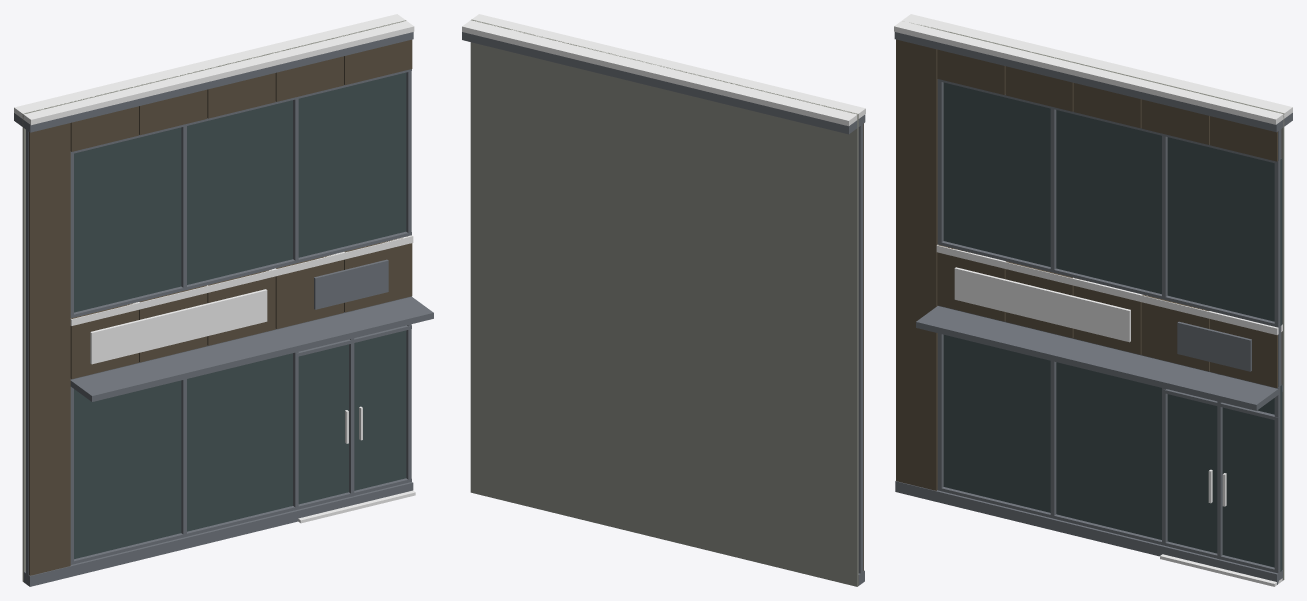
3 renders of one model, left to right at view 1: azimuth 30°, elevation 25°; view 2: azimuth 150°, elevation 25°; view 3: azimuth 330°, elevation 25°, orthographic.
Visible parts, largest first — view 1: a2010_base-w1; view 2: a2010_base-w1; view 3: a2010_base-w1.
Part boxes in pixels (<box>): a2010_base-w1: <box>14,14,433,586</box>; a2010_base-w1: <box>462,14,865,586</box>; a2010_base-w1: <box>894,14,1292,586</box>.
Size of the model in its own units: 6 by 7 by 0.99.
